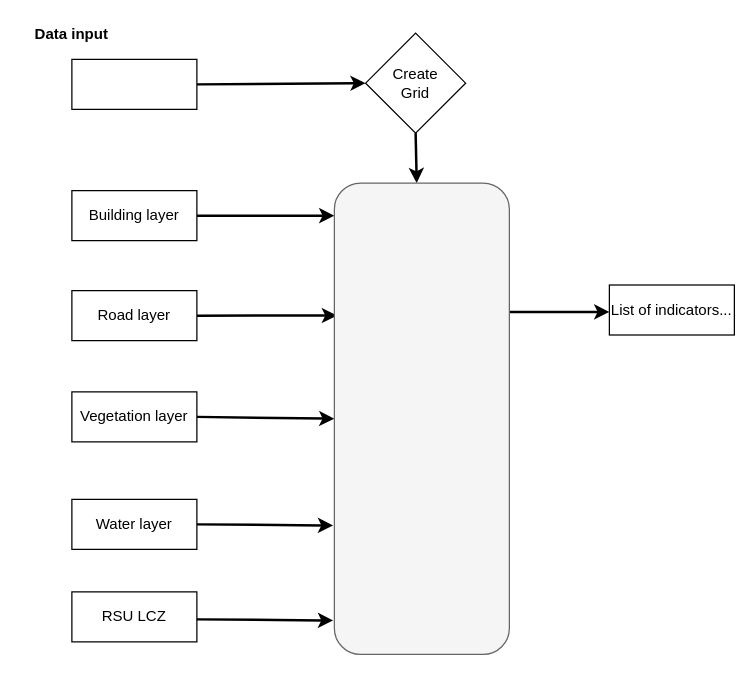
This 756x676 diagram has some shape labels left out. Here are the shapes that lost their labels. From the top down, the centre of each, then its label:
At pixel 134 83: "Zone layer".
At pixel 421 418: "Spatial aggregation processes".
